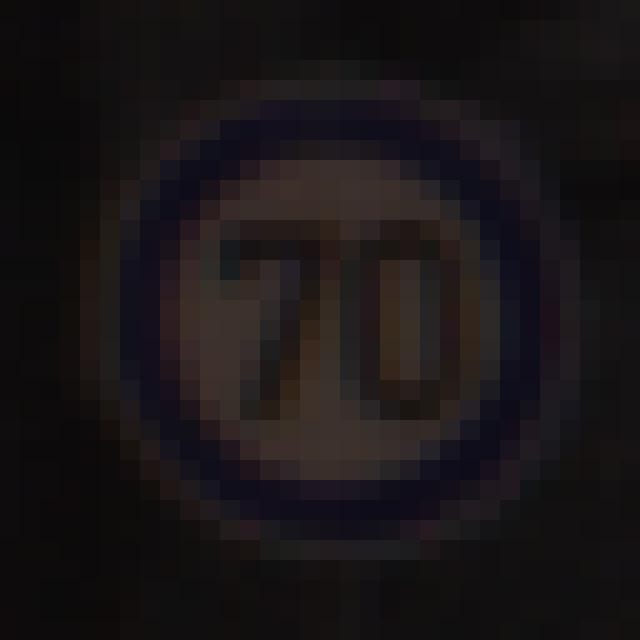SPEED LIMIT 70: (71, 93, 598, 544)
